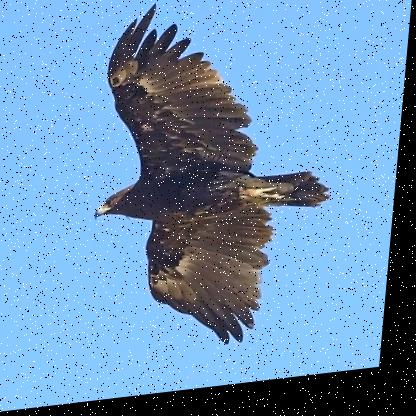Burung: (87, 0, 351, 367)
